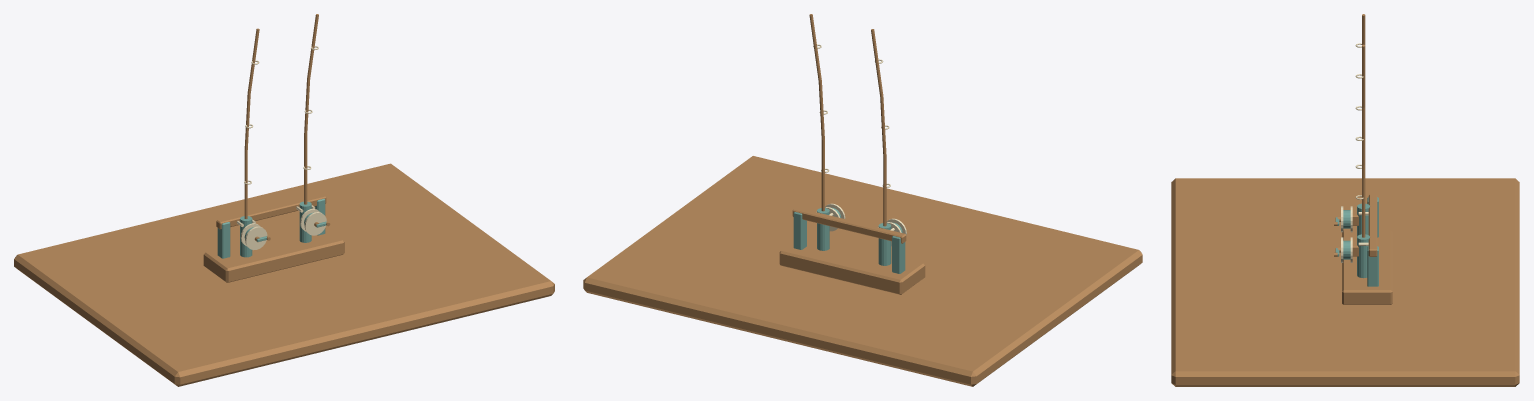
3 views of the same model, side by side, from view 1: azimuth 30°, elevation 25°; view 2: azimuth 150°, elevation 25°; view 3: azimuth 270°, elevation 25° (orthographic). The views are drawn at different scales.
Parts seen in each view (by area): view 1: fishing-equipment-corner-scene-01; view 2: fishing-equipment-corner-scene-01; view 3: fishing-equipment-corner-scene-01.
Boxes of the visible parts, bbox=[...] form: fishing-equipment-corner-scene-01: bbox=[14, 14, 554, 386]; fishing-equipment-corner-scene-01: bbox=[583, 14, 1142, 386]; fishing-equipment-corner-scene-01: bbox=[1171, 14, 1519, 386].
Size of the model in its own units: 3.2 by 2.03 by 2.4.
